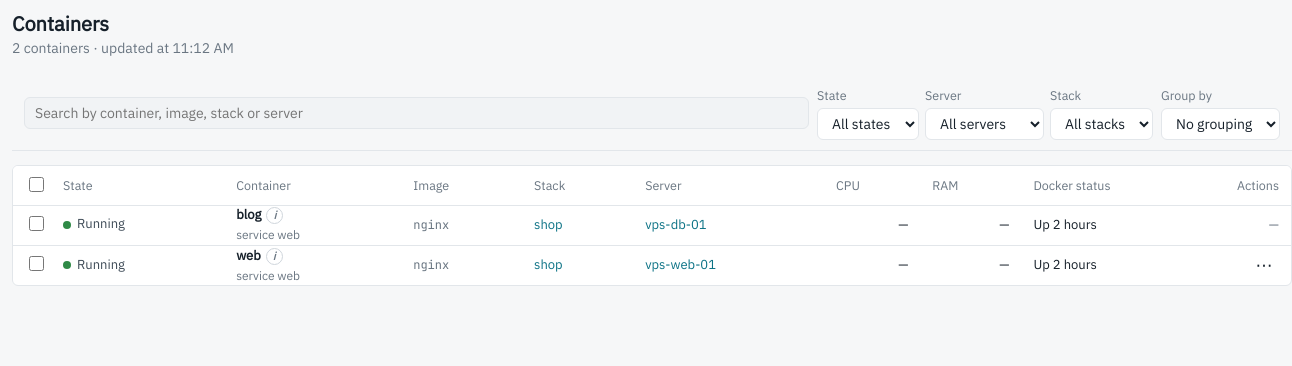
Containers › disables a bulk action when part of the selection is not permitted
Expected: the text "blog" is shown, x1=236 y1=206 x2=261 y2=225
Click the checkbox named "Select all" at point(36, 185), box x1=29 y1=177 x2=44 y2=192
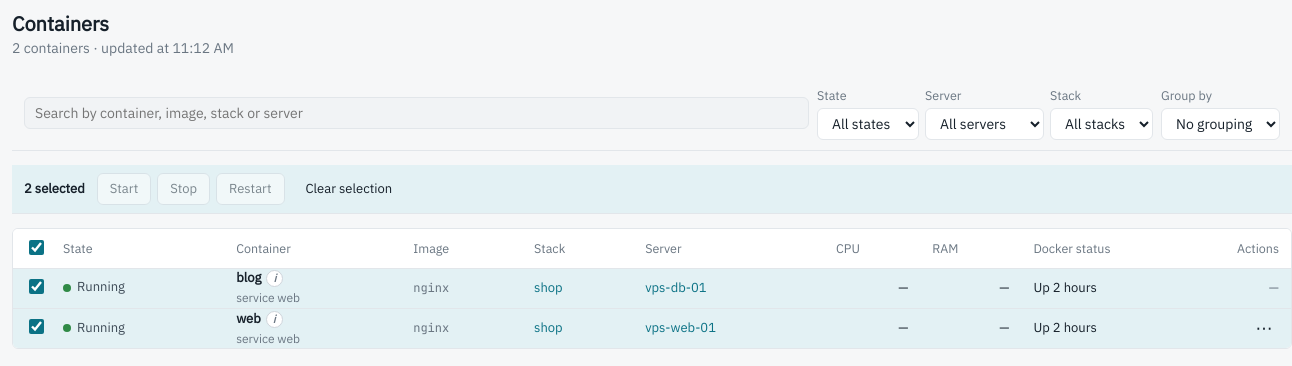
Now the button "Start" is disabled, box x1=97 y1=173 x2=151 y2=205
